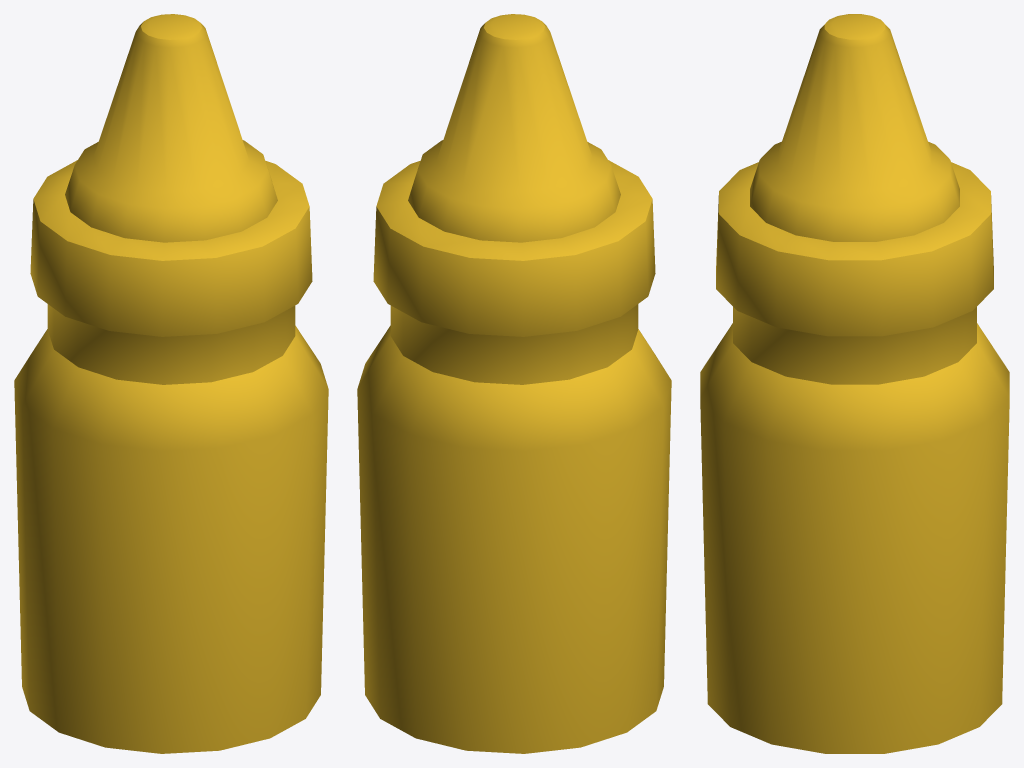
File: YellowMustard.fbx
3 views of the same model, side by side, from view 1: azimuth 30°, elevation 25°; view 2: azimuth 150°, elevation 25°; view 3: azimuth 270°, elevation 25° (orthographic).
Visible parts, largest first — view 1: YellowMustard; view 2: YellowMustard; view 3: YellowMustard.
Part boxes in pixels (box(x1,y1,x2,y2)): YellowMustard: box(14, 14, 328, 753); YellowMustard: box(357, 14, 671, 753); YellowMustard: box(700, 14, 1009, 753).
Size of the model in its own units: 17.12 by 40.74 by 17.12.
